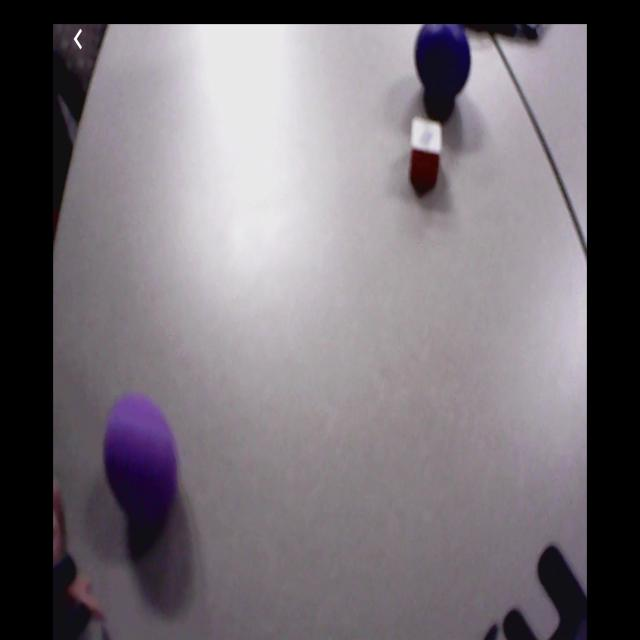ball: (105, 395, 176, 516), (415, 26, 472, 103)
